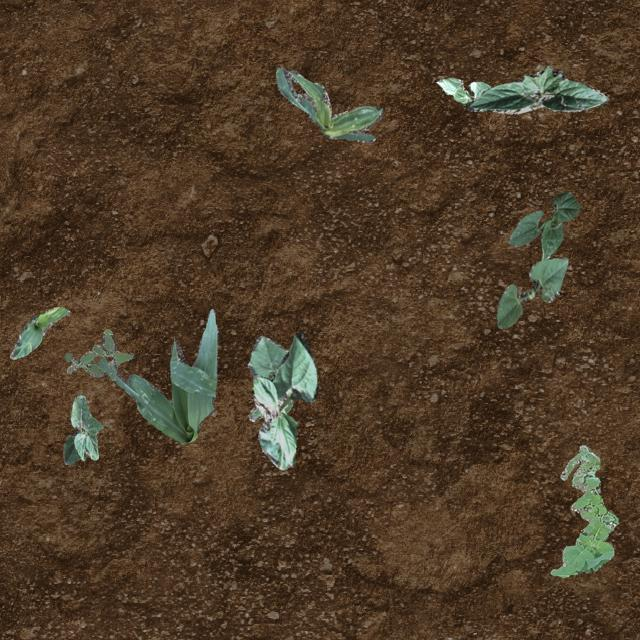crop: (96, 308, 218, 442), (250, 331, 318, 468), (274, 66, 382, 142), (464, 64, 608, 112), (496, 255, 566, 328), (508, 190, 578, 260), (246, 334, 292, 420), (8, 306, 70, 358), (62, 394, 102, 464), (436, 76, 490, 102)
weed: (550, 444, 616, 576), (64, 328, 132, 380)
